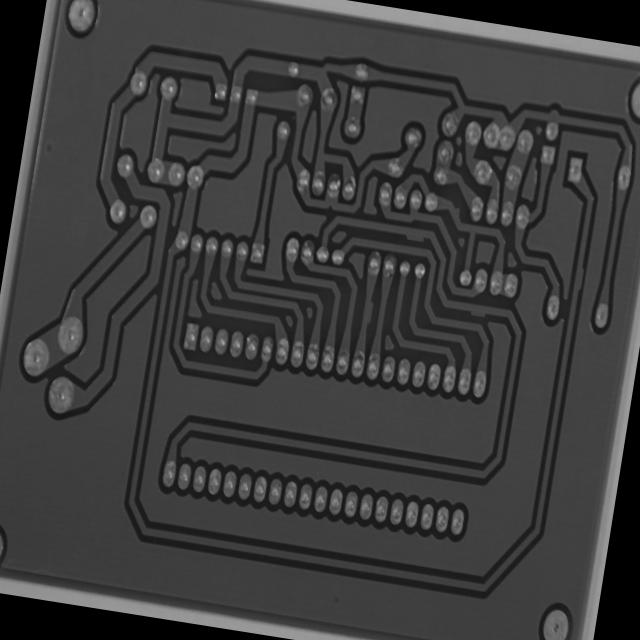spur: (400, 222, 430, 246), (571, 259, 588, 296), (359, 296, 377, 328), (467, 300, 489, 320), (448, 198, 466, 222)
